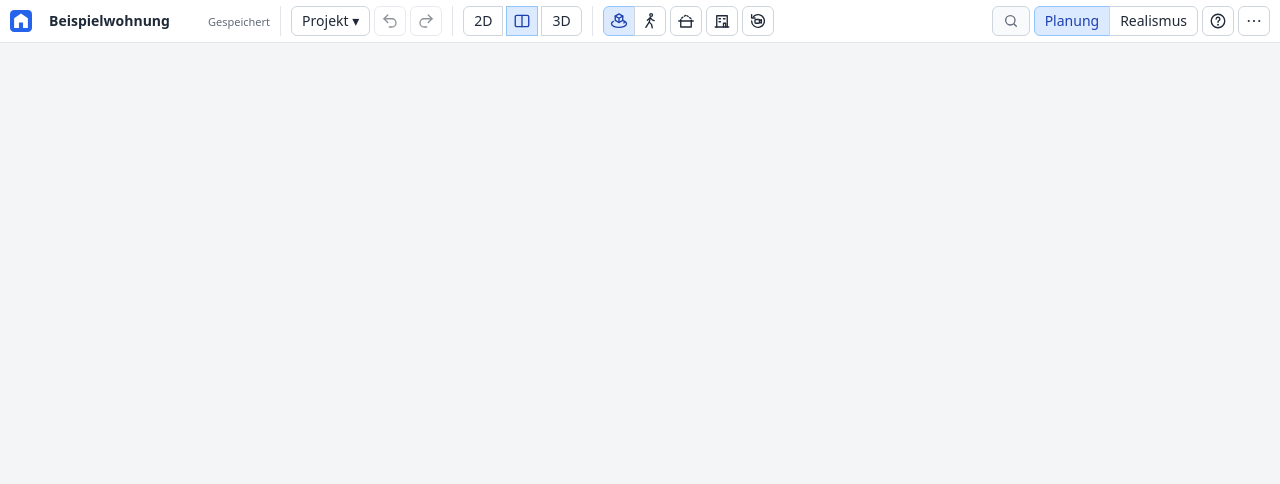
Scenario: toolbar (#100, #103) › the "Mehr" menu holds the exports; light presets only in 3D realism
The width and height of the screenshot is (1280, 484).
Click the button named "Mehr" at (1254, 21), box [1238,6,1270,36]
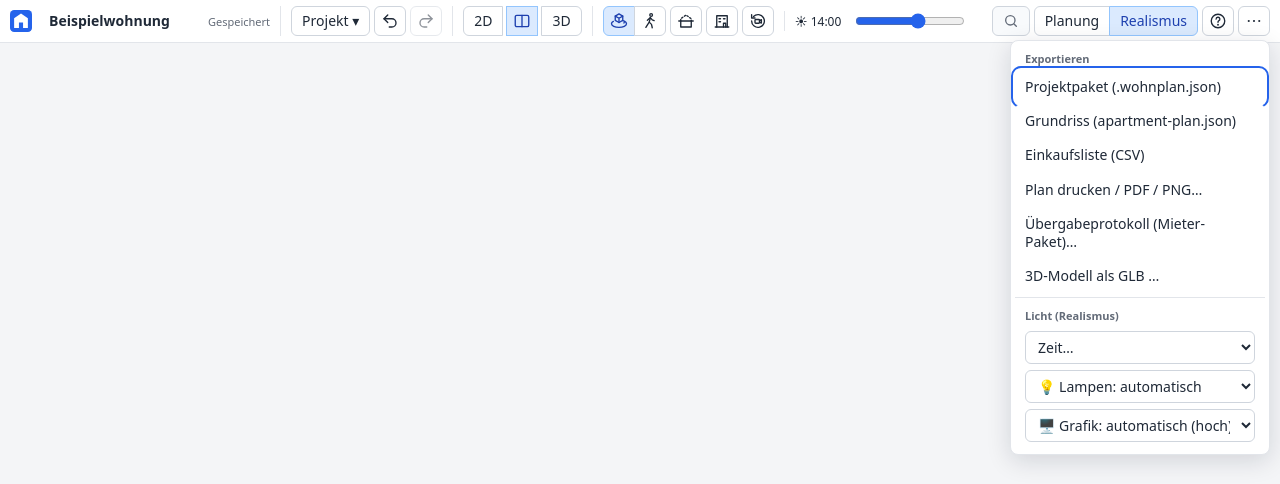
expect the dropdown named "Tageszeit-Voreinstellung" is shown: met, box [1025,331,1255,364]
expect the slider named "Tageszeit" is shown: met, box [855,13,965,29]
expect the number of dropdowns named "Lampen" is 1: met, box [1025,370,1255,403]
